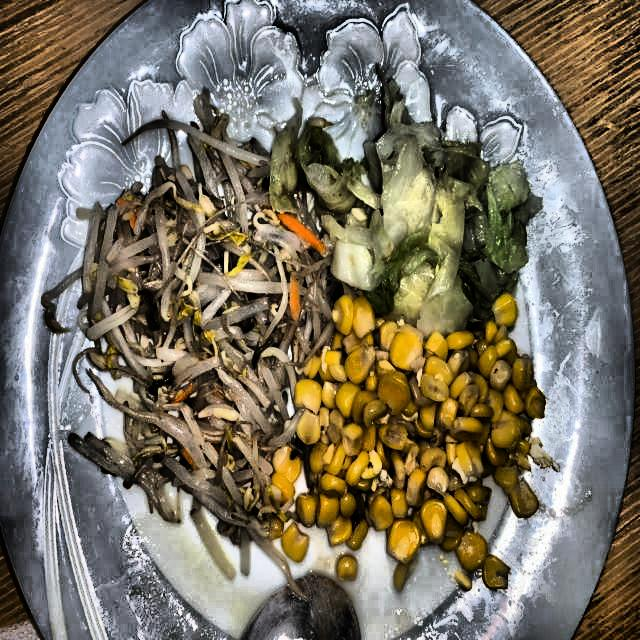Food: (87, 152, 294, 534), (316, 127, 530, 316)
